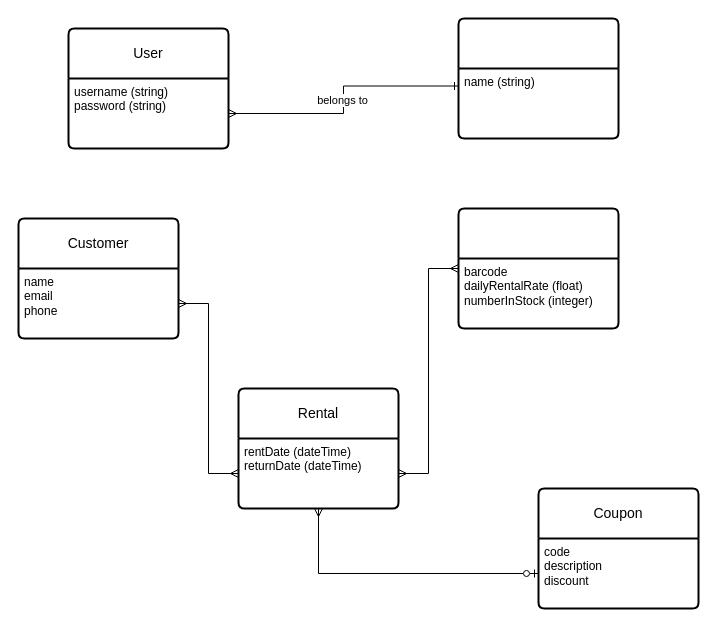
This 716x626 diagram has some shape labels left out. The shapes that lost their labels are listed below. From the top down, each one's box as (x1, y1, x2, y2) in pixels, then its label:
(457, 17, 619, 139): Role
(457, 207, 619, 329): Movies
